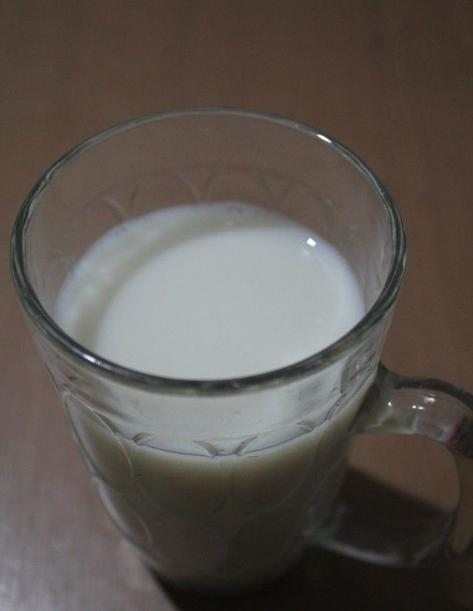produk_susu: (57, 136, 361, 530)
